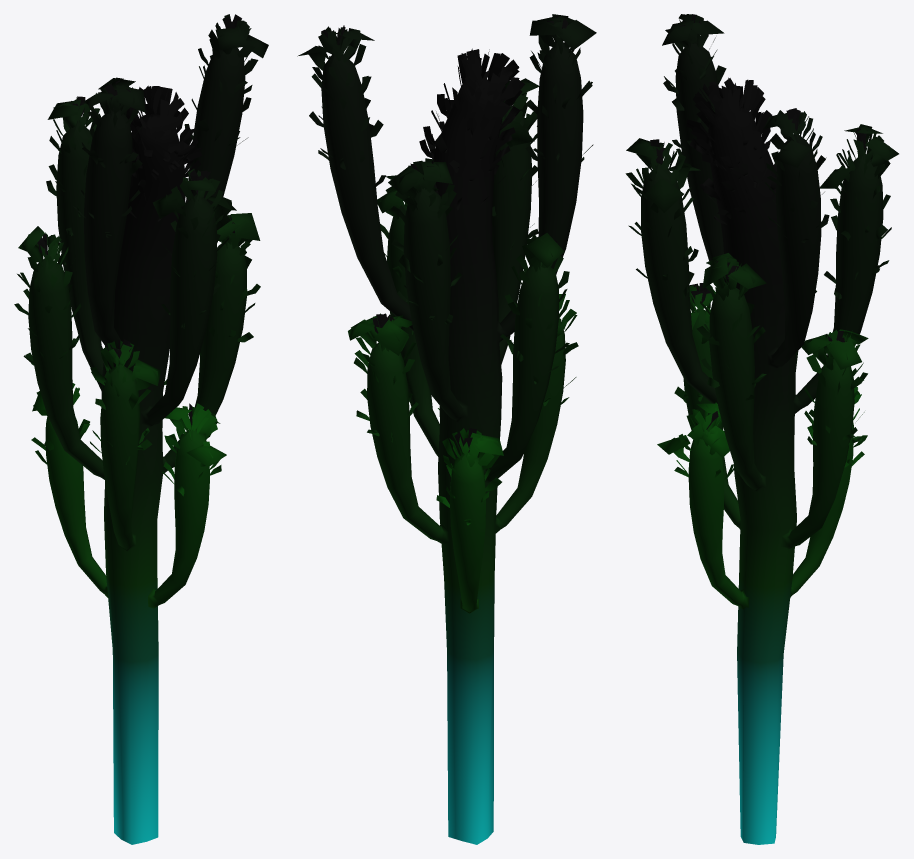
File: Saguaro5.fbx
3 renders of one model, left to right at view 1: azimuth 30°, elevation 25°; view 2: azimuth 150°, elevation 25°; view 3: azimuth 270°, elevation 25°, orthographic. The views are drawn at different scales.
Parts seen in each view (by area): view 1: Saguaro5_LOD0; view 2: Saguaro5_LOD0; view 3: Saguaro5_LOD0.
Boxes of the visible parts, x1=… form: Saguaro5_LOD0: x1=14, y1=14, x2=268, y2=844; Saguaro5_LOD0: x1=297, y1=14, x2=596, y2=844; Saguaro5_LOD0: x1=625, y1=14, x2=898, y2=844.
Size of what is drawn, in the model's own units: 349 by 1030 by 323.
